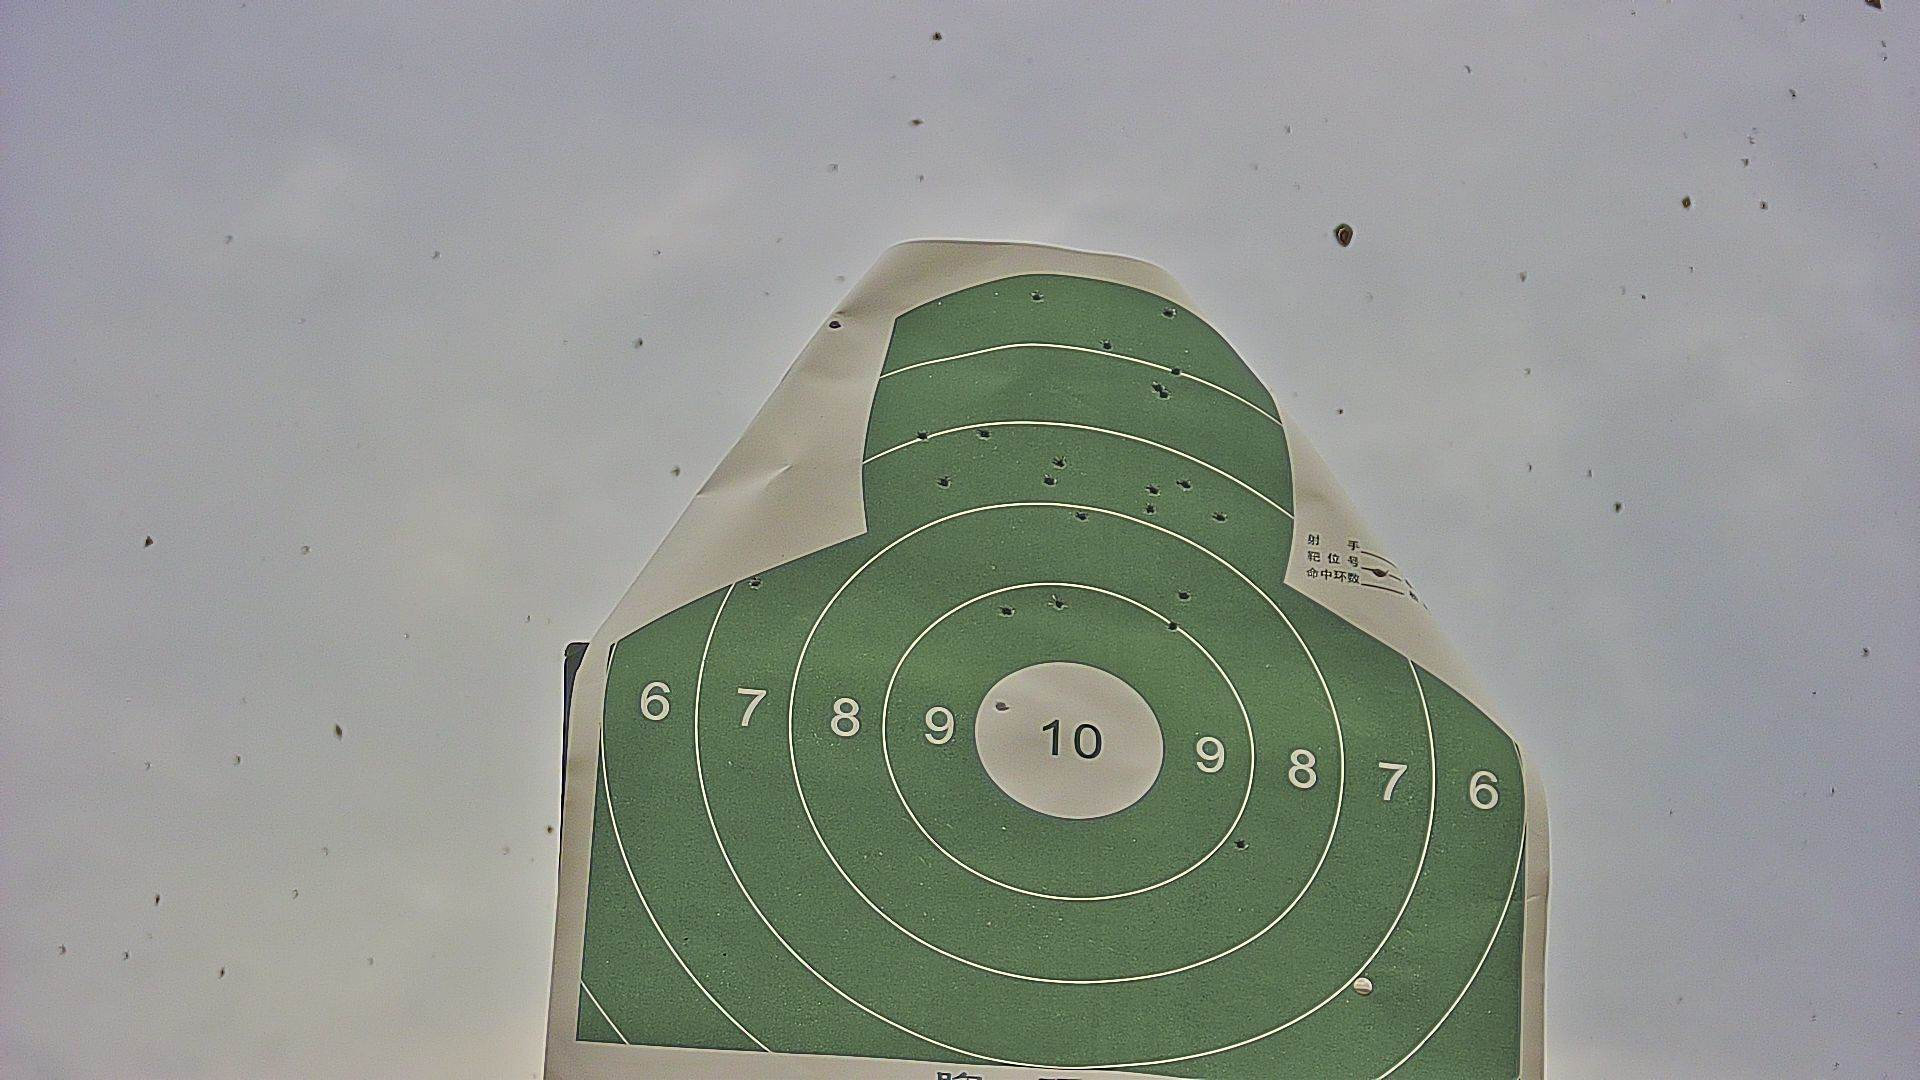hole: (1176, 588, 1191, 603), (1054, 595, 1067, 611), (1160, 307, 1178, 316), (978, 427, 992, 439), (1145, 502, 1156, 516), (1073, 510, 1087, 522), (1000, 604, 1011, 617), (1236, 837, 1247, 851), (1029, 290, 1043, 301), (1044, 472, 1055, 487), (1178, 476, 1188, 491), (1100, 338, 1112, 349), (1149, 378, 1160, 390), (996, 700, 1007, 712), (1052, 458, 1065, 468), (1147, 483, 1158, 496), (1158, 388, 1168, 400), (918, 430, 930, 440), (938, 476, 949, 487), (749, 578, 761, 588), (1168, 365, 1182, 375), (1213, 512, 1226, 521), (1168, 618, 1178, 630)
kernel: (1065, 738, 1067, 740)
target: (578, 274, 1523, 1080)
ten: (975, 659, 1166, 820)
